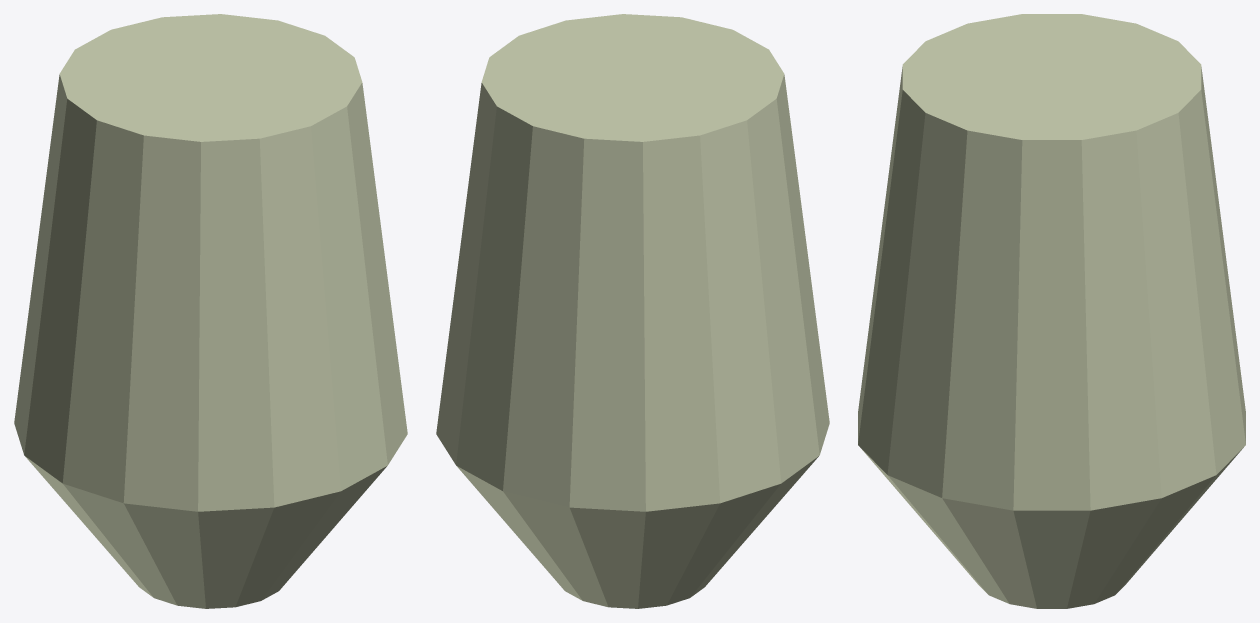
File: libra_lv_fuel_tank_s6_s4_1_collider.obj
3 renders of one model, left to right at view 1: azimuth 30°, elevation 25°; view 2: azimuth 150°, elevation 25°; view 3: azimuth 270°, elevation 25°, orthographic.
Visible parts, largest first — view 1: collider; view 2: collider; view 3: collider.
Part boxes in pixels (box(x1,y1,x2,y2)): collider: box(14, 14, 407, 608); collider: box(436, 14, 829, 608); collider: box(858, 14, 1245, 608).
Bounding box in the file's own units: 6.5 × 9.25 × 6.5.
